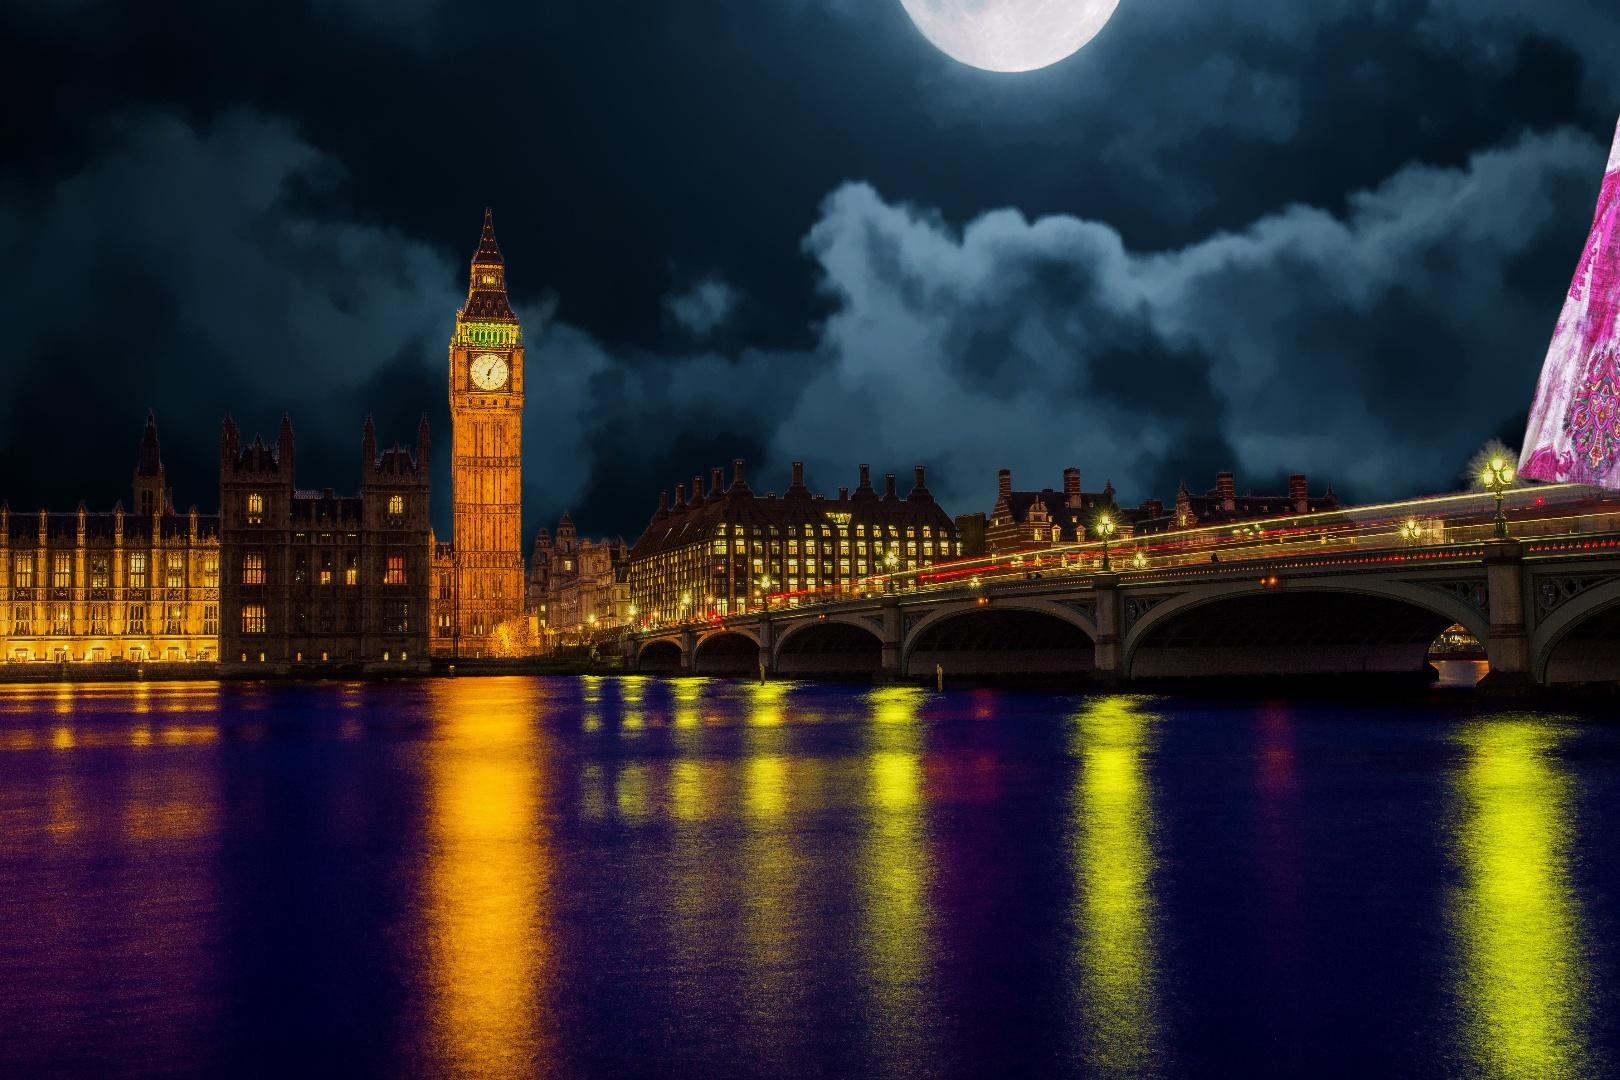clothes: (1512, 2, 1620, 499)
